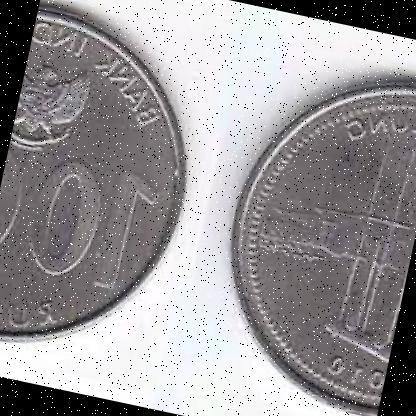coin_1000_e2010: (229, 76, 416, 416), (0, 9, 182, 352)
